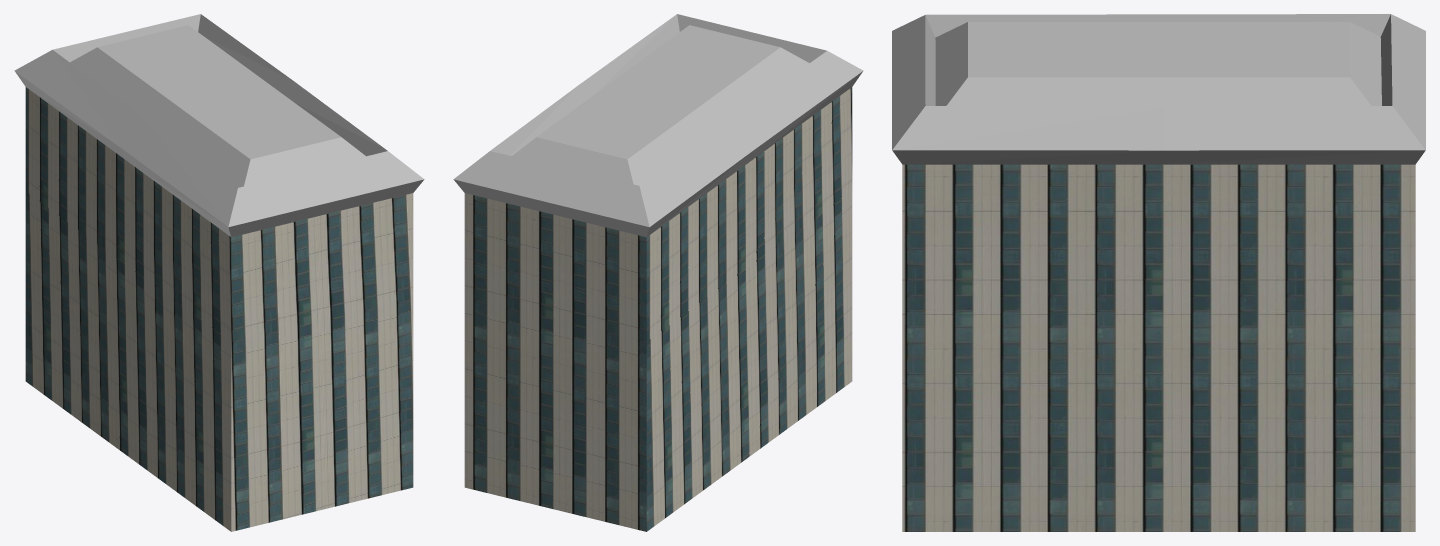
Rendered from Building 2.fbx.
The picture shows the model from 3 angles, left to right: view 1: azimuth 30°, elevation 25°; view 2: azimuth 150°, elevation 25°; view 3: azimuth 270°, elevation 25°; orthographic projection. The views are drawn at different scales.
Parts seen in each view (by area): view 1: pCube1; view 2: pCube1; view 3: pCube1.
Part boxes in pixels (<box>): pCube1: <box>14,14,424,531</box>; pCube1: <box>453,14,863,531</box>; pCube1: <box>892,14,1425,531</box>.
Size of the model in its own units: 0.0108 by 0.018 by 0.0203.
4 materials, 1 textured.
